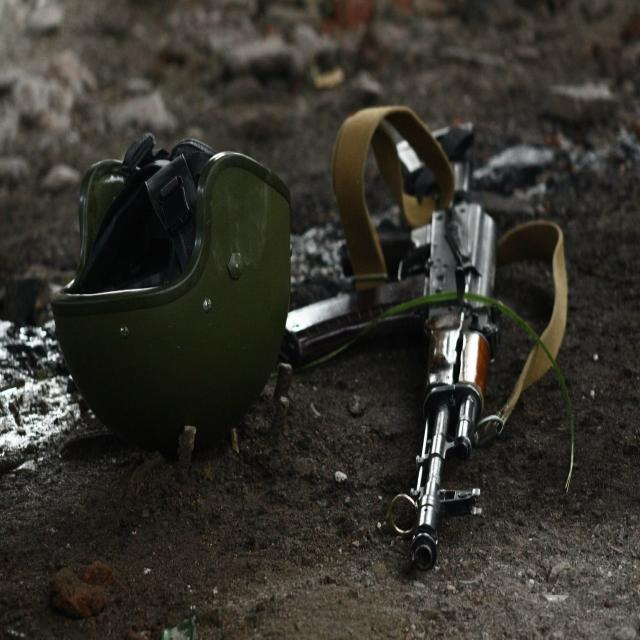firearm: (295, 149, 501, 572)
